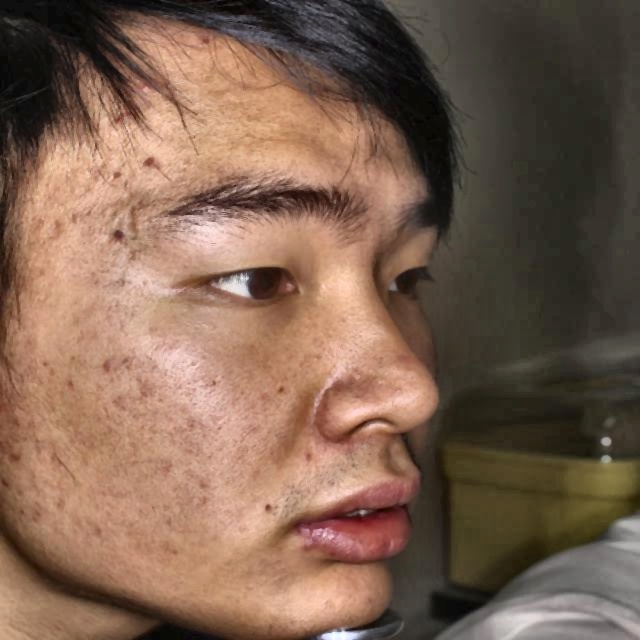comedone: (95, 346, 126, 388), (133, 153, 164, 171)
